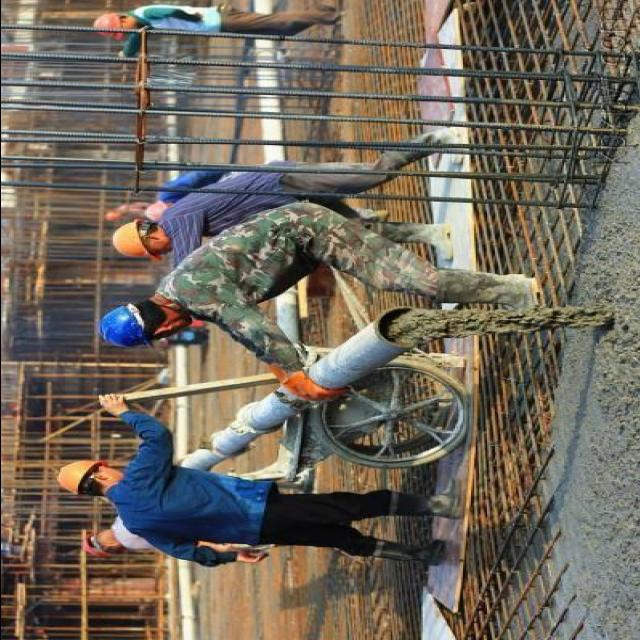helmet: (95, 300, 152, 358), (54, 452, 110, 502), (110, 218, 160, 266), (87, 10, 121, 44)
